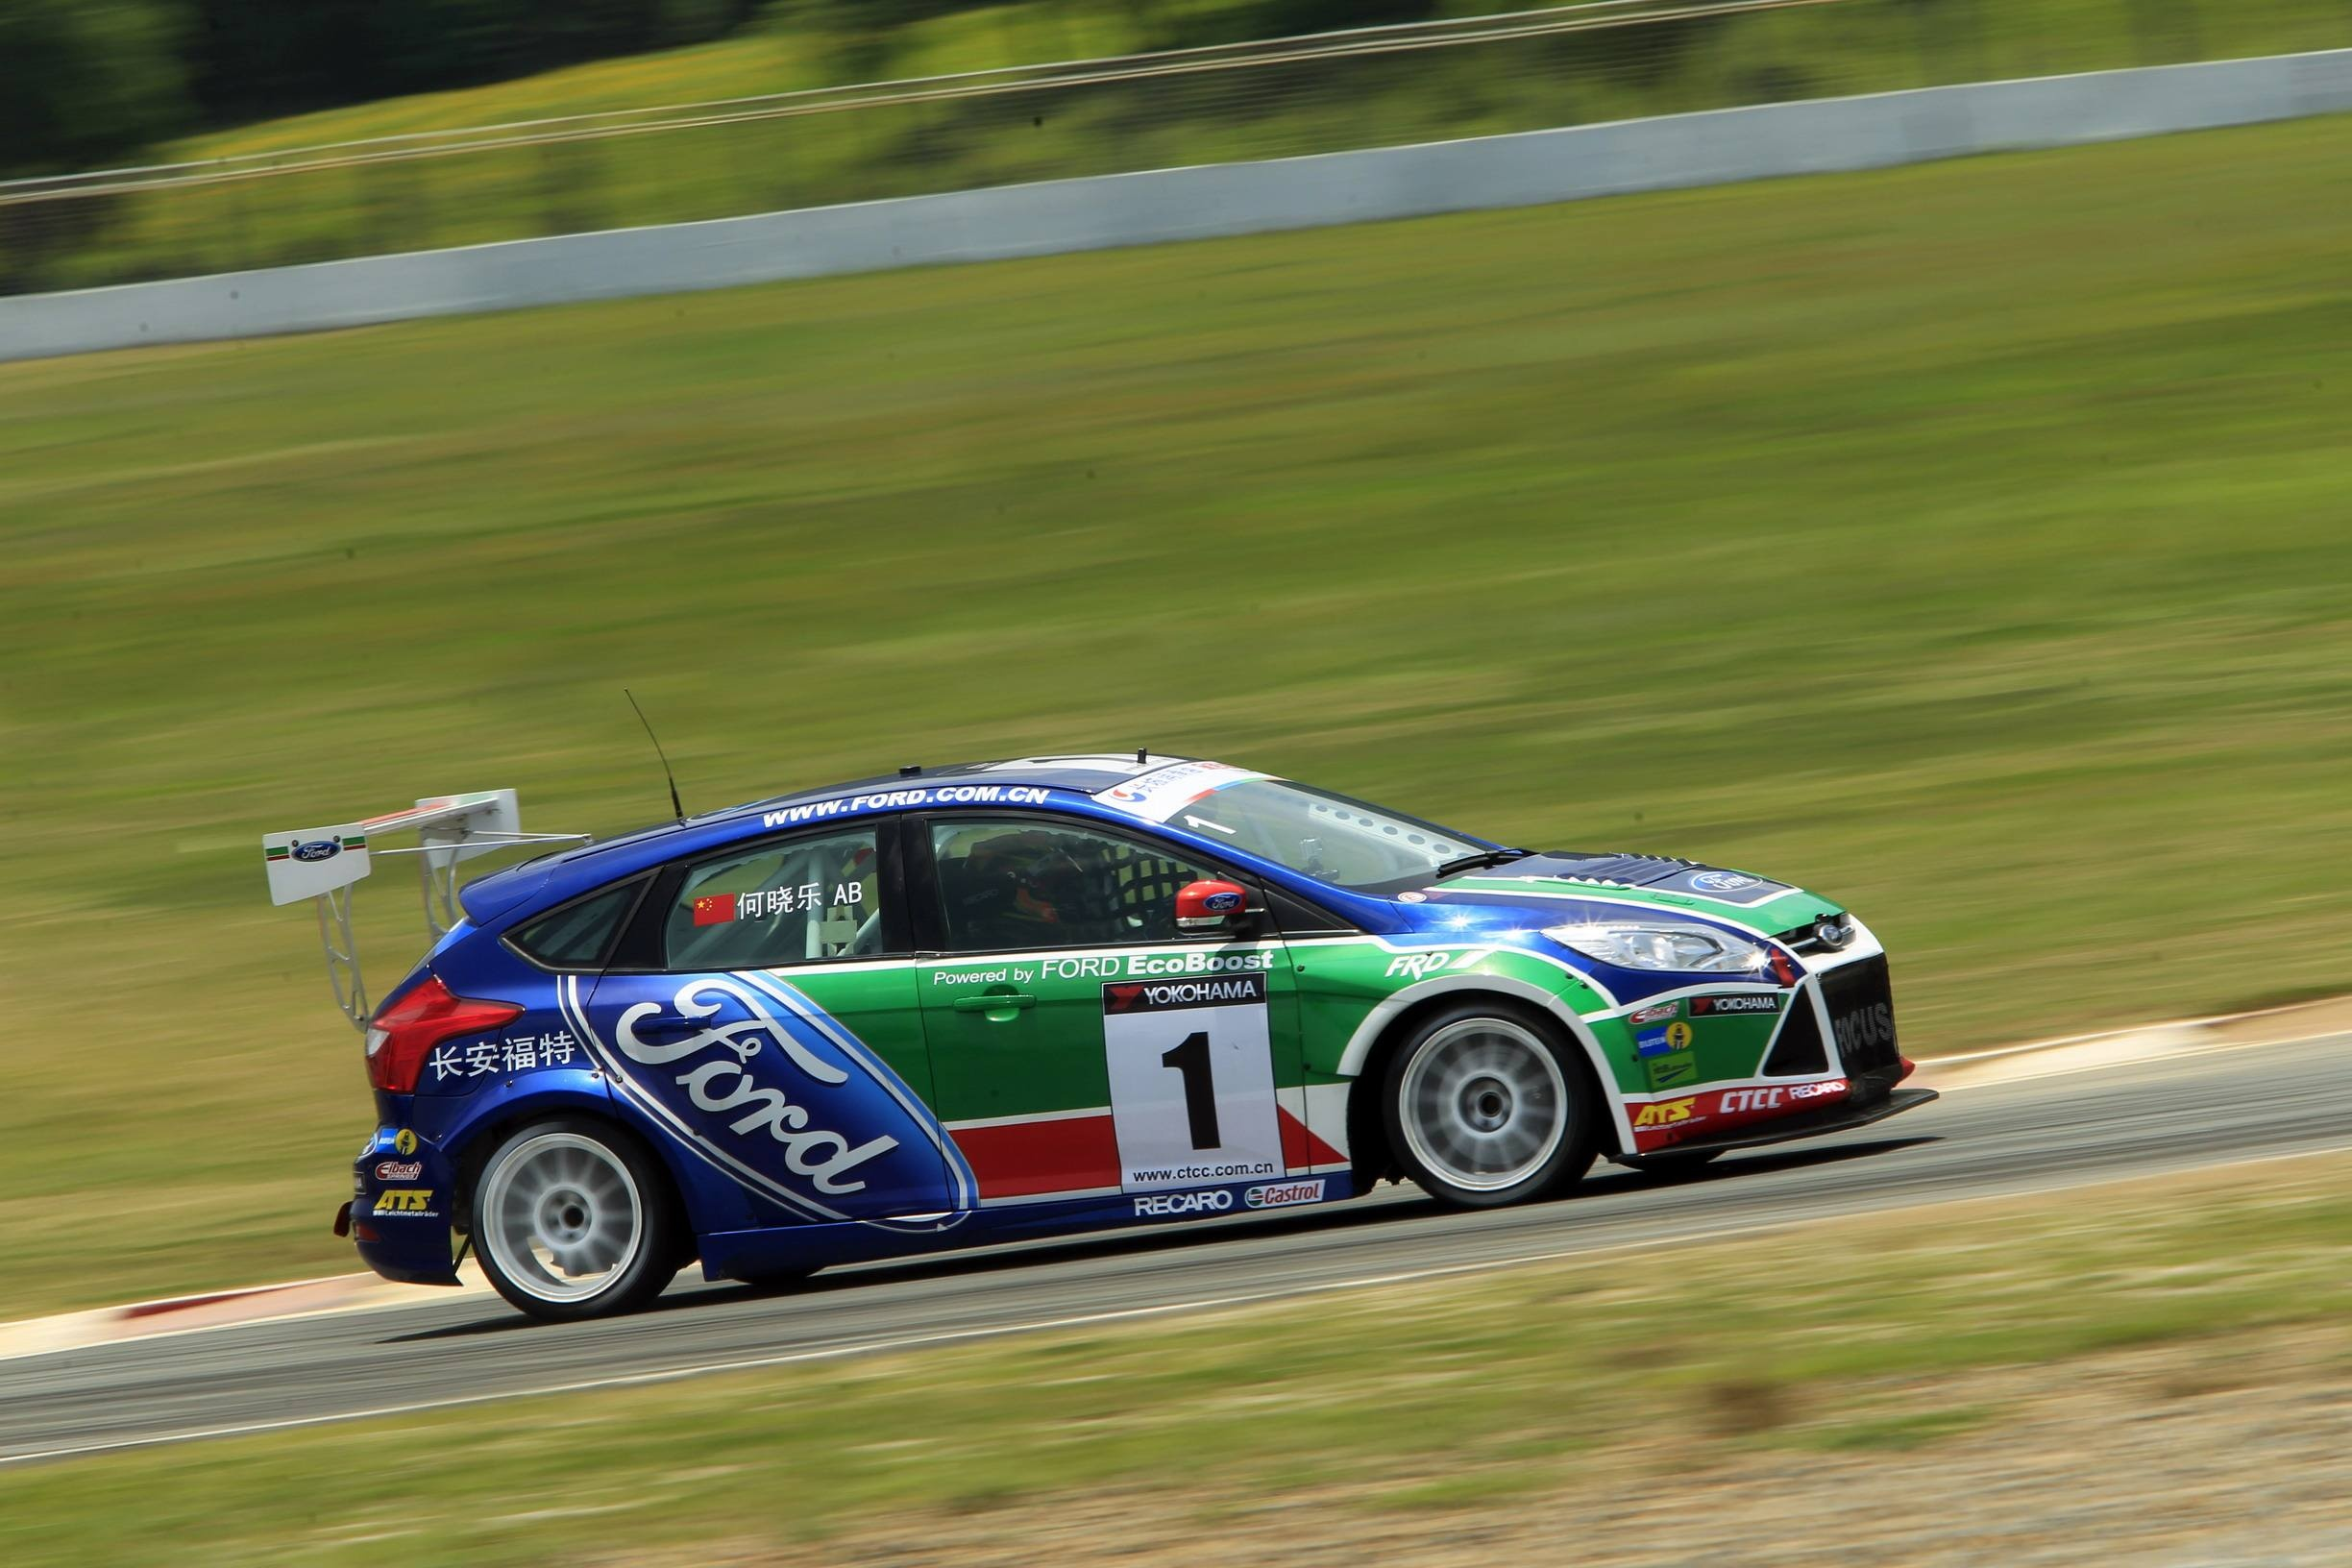racing car: (352, 654, 1932, 1319)
